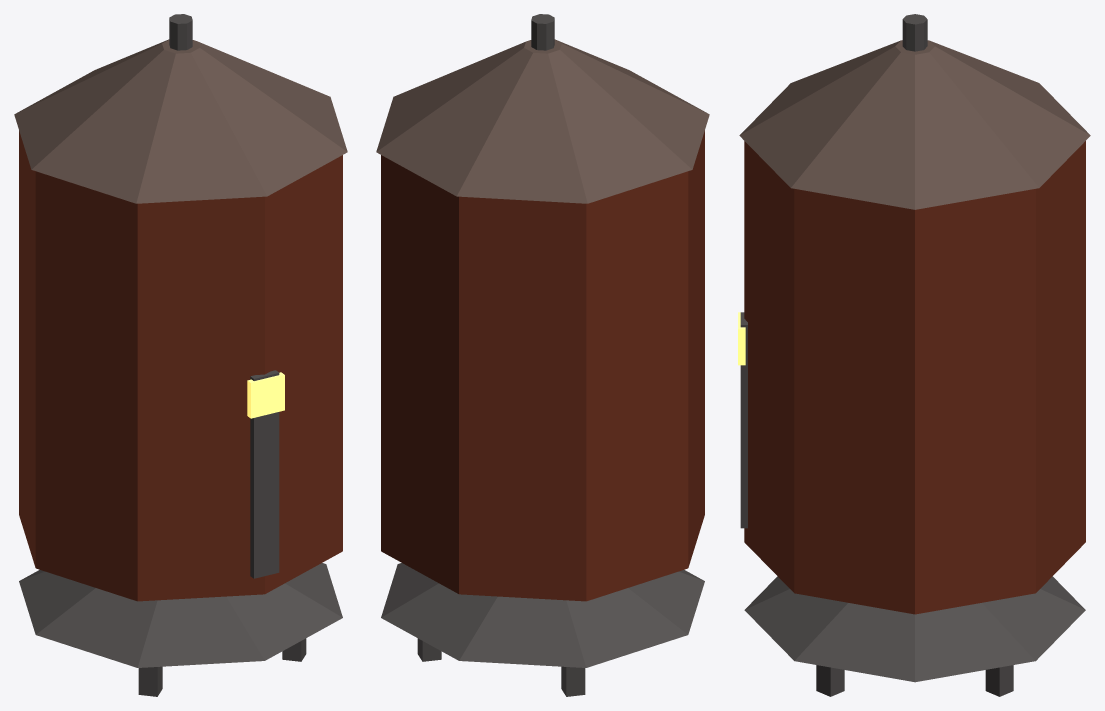
File: ore_tank_2_kiln.glb
The picture shows the model from 3 angles, left to right: view 1: azimuth 30°, elevation 25°; view 2: azimuth 150°, elevation 25°; view 3: azimuth 270°, elevation 25°; orthographic projection.
Visible parts, largest first — view 1: Cylinder, Cone.001, Cone, Cube.005, Cube.004, Cylinder.001, Cube.002; view 2: Cylinder, Cone.001, Cone, Cylinder.001, Cube.001; view 3: Cylinder, Cone.001, Cone, Cube.005, Cylinder.001, Cube, Cube.003.
Part boxes in pixels (x1,y1,x2,y2): Cylinder: [19, 130, 342, 601]; Cone.001: [14, 39, 347, 203]; Cone: [19, 563, 342, 667]; Cube.005: [250, 370, 279, 578]; Cube.004: [247, 372, 284, 418]; Cylinder.001: [169, 14, 192, 50]; Cube.002: [138, 666, 162, 696]; Cylinder: [381, 130, 704, 601]; Cone.001: [376, 39, 709, 203]; Cone: [381, 563, 704, 667]; Cylinder.001: [531, 14, 554, 50]; Cube.001: [561, 666, 585, 696]; Cylinder: [744, 141, 1085, 614]; Cone.001: [739, 40, 1090, 209]; Cone: [744, 576, 1085, 682]; Cube.005: [740, 312, 747, 528]; Cylinder.001: [902, 14, 927, 51]; Cube: [985, 665, 1013, 696]; Cube.003: [816, 665, 844, 696].
Size of the model in its own units: 14.1 by 28.15 by 14.15.
